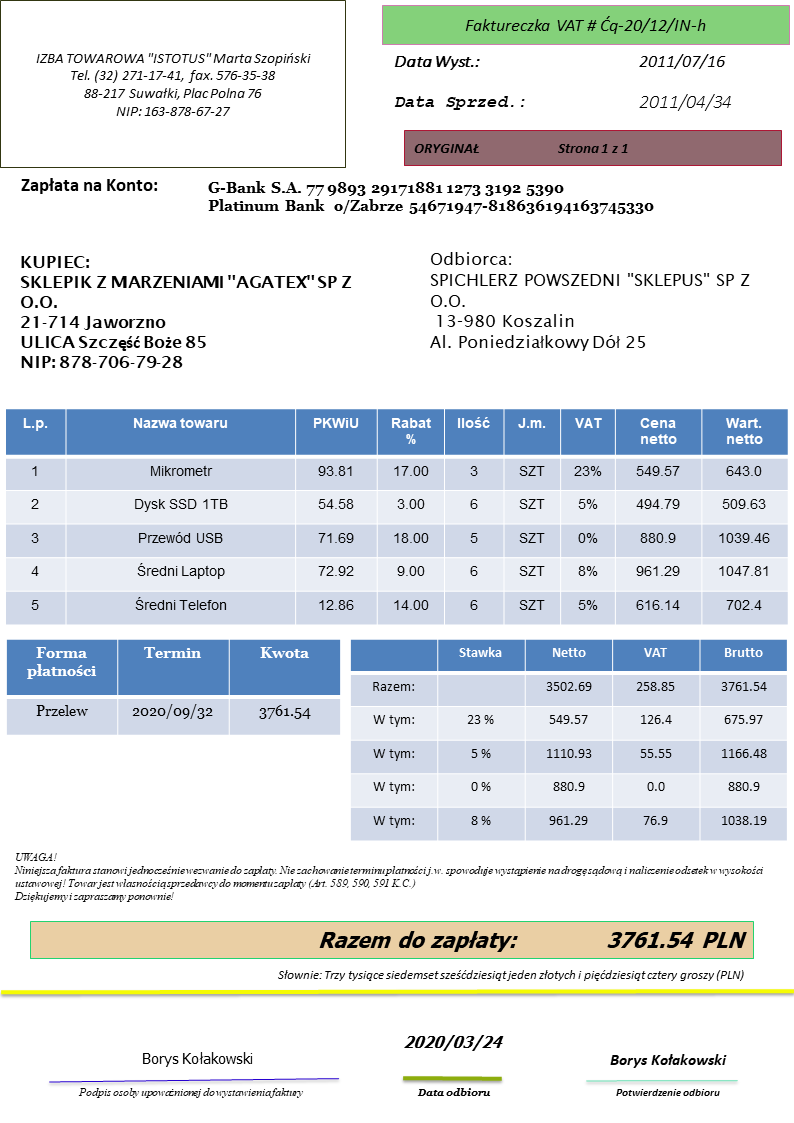Table: (4, 408, 790, 627), (349, 638, 789, 842), (5, 638, 341, 736)
TextBox: (12, 849, 767, 906), (17, 250, 356, 371), (427, 248, 754, 353), (32, 48, 316, 120), (205, 178, 655, 218), (317, 926, 747, 953), (275, 965, 746, 985), (462, 11, 710, 37), (76, 1082, 306, 1103), (410, 138, 632, 158), (392, 91, 528, 113), (17, 175, 159, 196), (138, 1047, 255, 1070), (607, 1050, 728, 1071), (402, 1031, 504, 1053), (635, 92, 733, 112), (635, 50, 728, 71), (391, 52, 482, 71), (613, 1085, 721, 1101), (414, 1084, 492, 1101)
